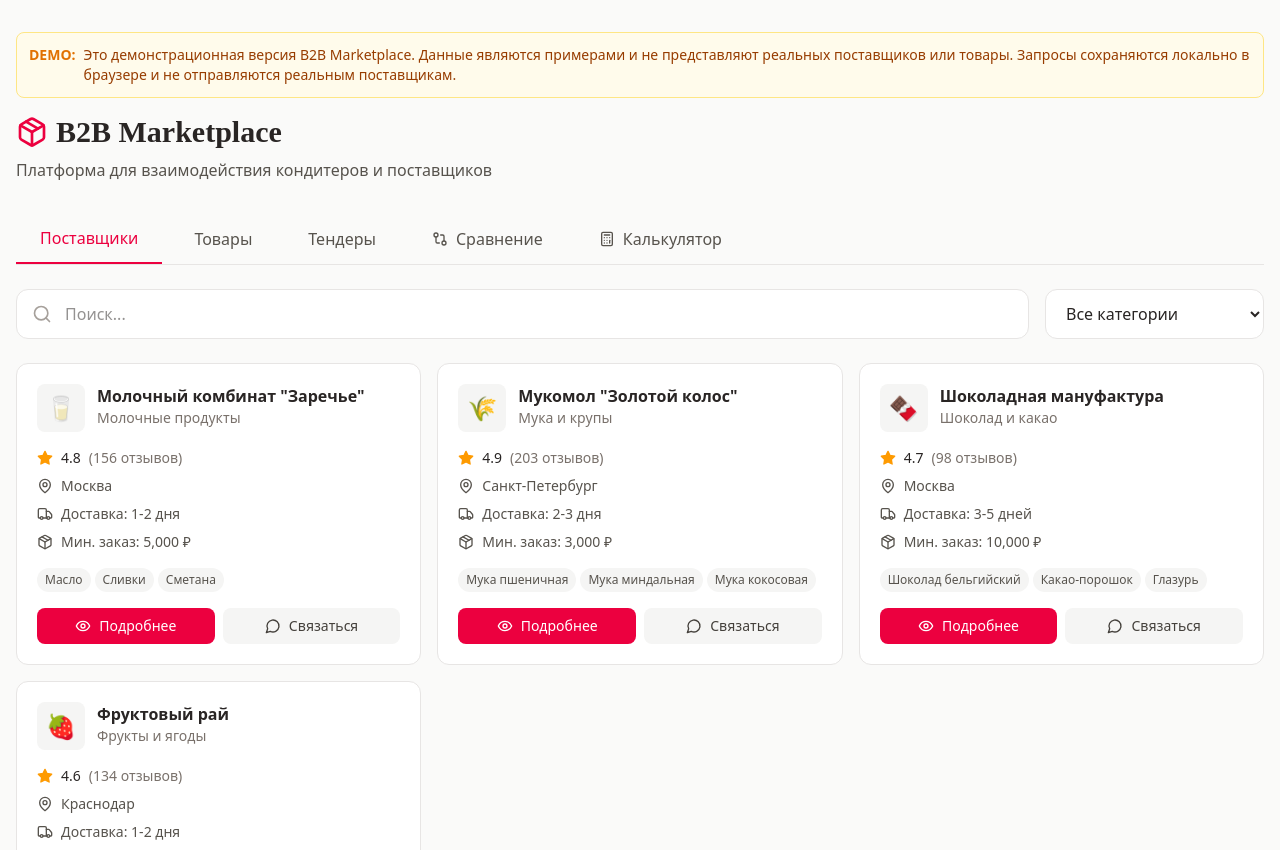
Test case: B2B Marketplace V2 › Закупочный запрос › должен создавать запрос при валидных данных
Click the button "Товары": (223, 239) top-left (170, 214), bottom-right (276, 264)
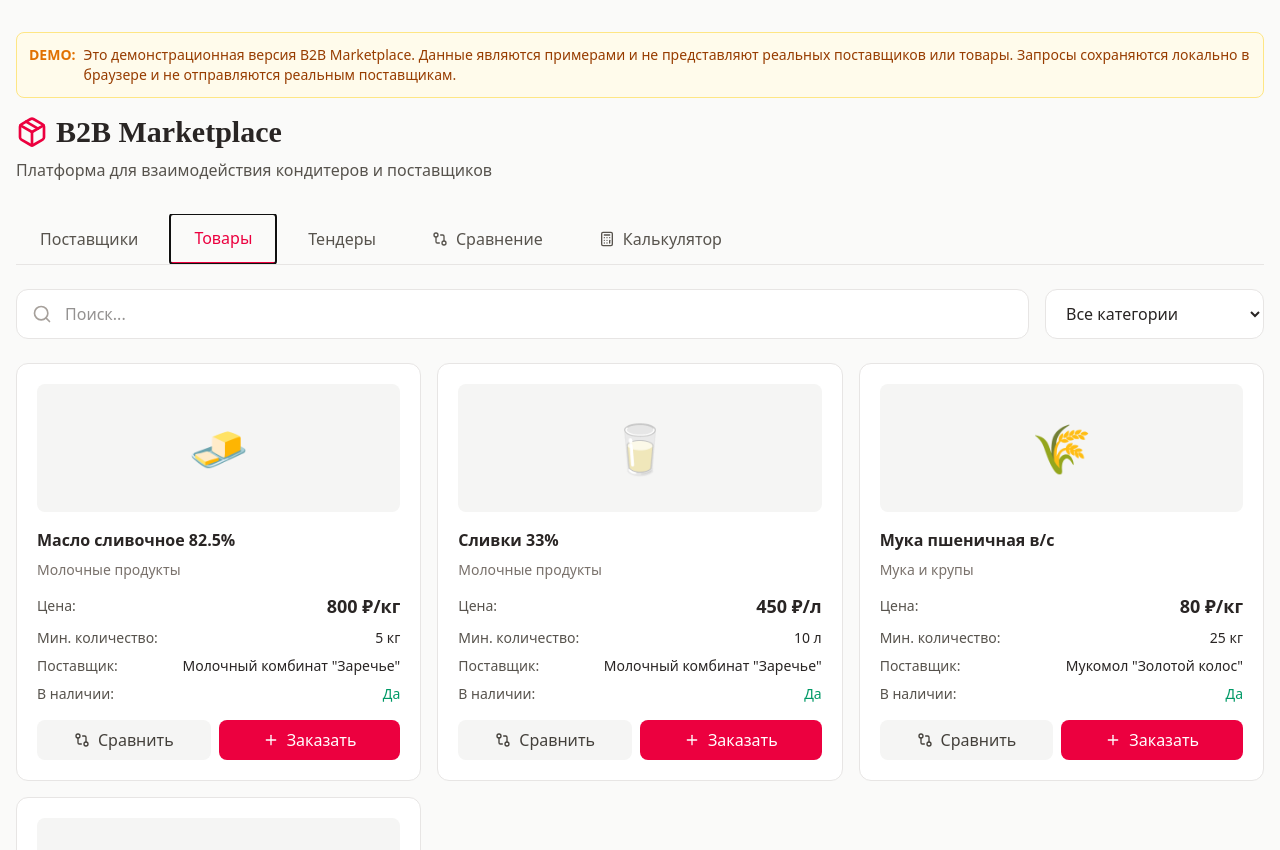
Click the button "Заказать" below "800": (310, 740) top-left (219, 720), bottom-right (400, 760)
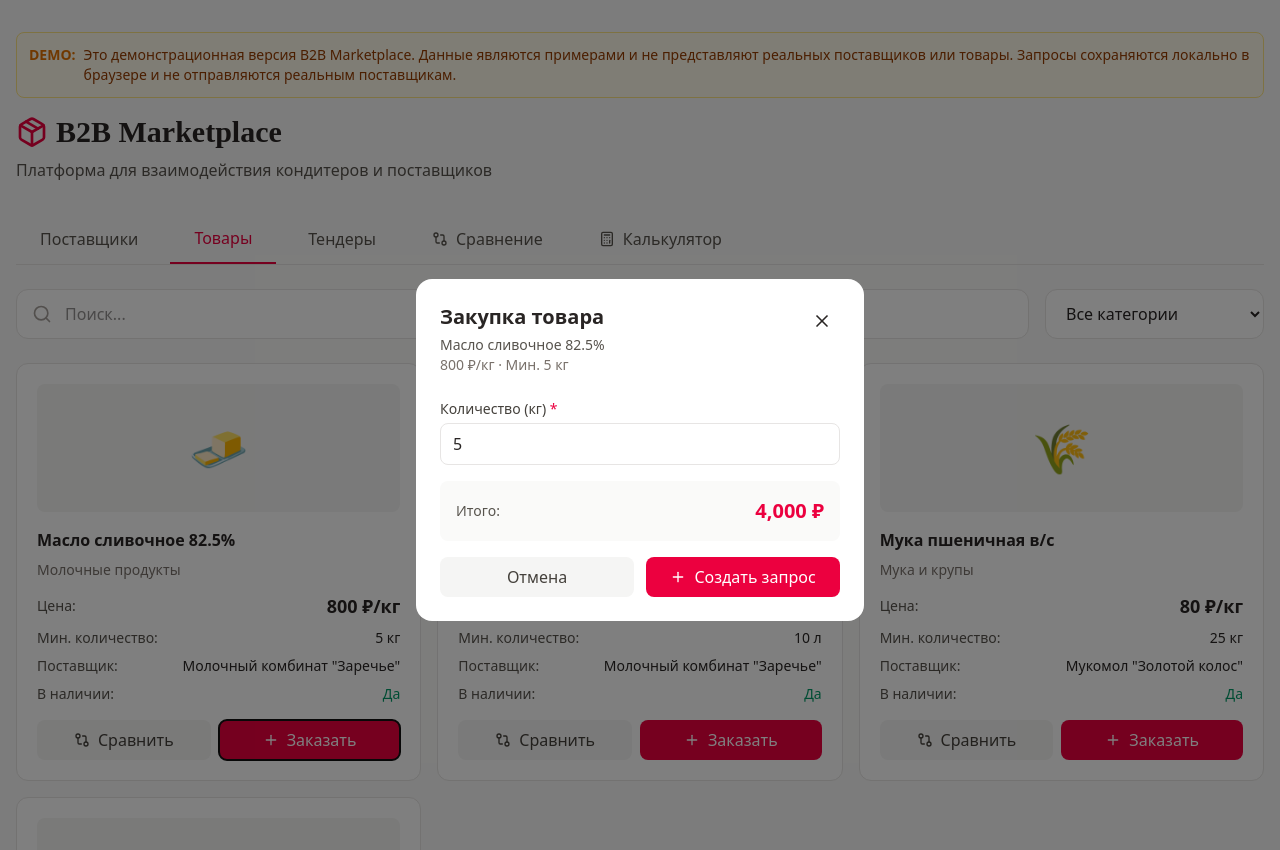
Clear the number field with placeholder "Мин. 5": (640, 444) top-left (440, 423), bottom-right (840, 465)
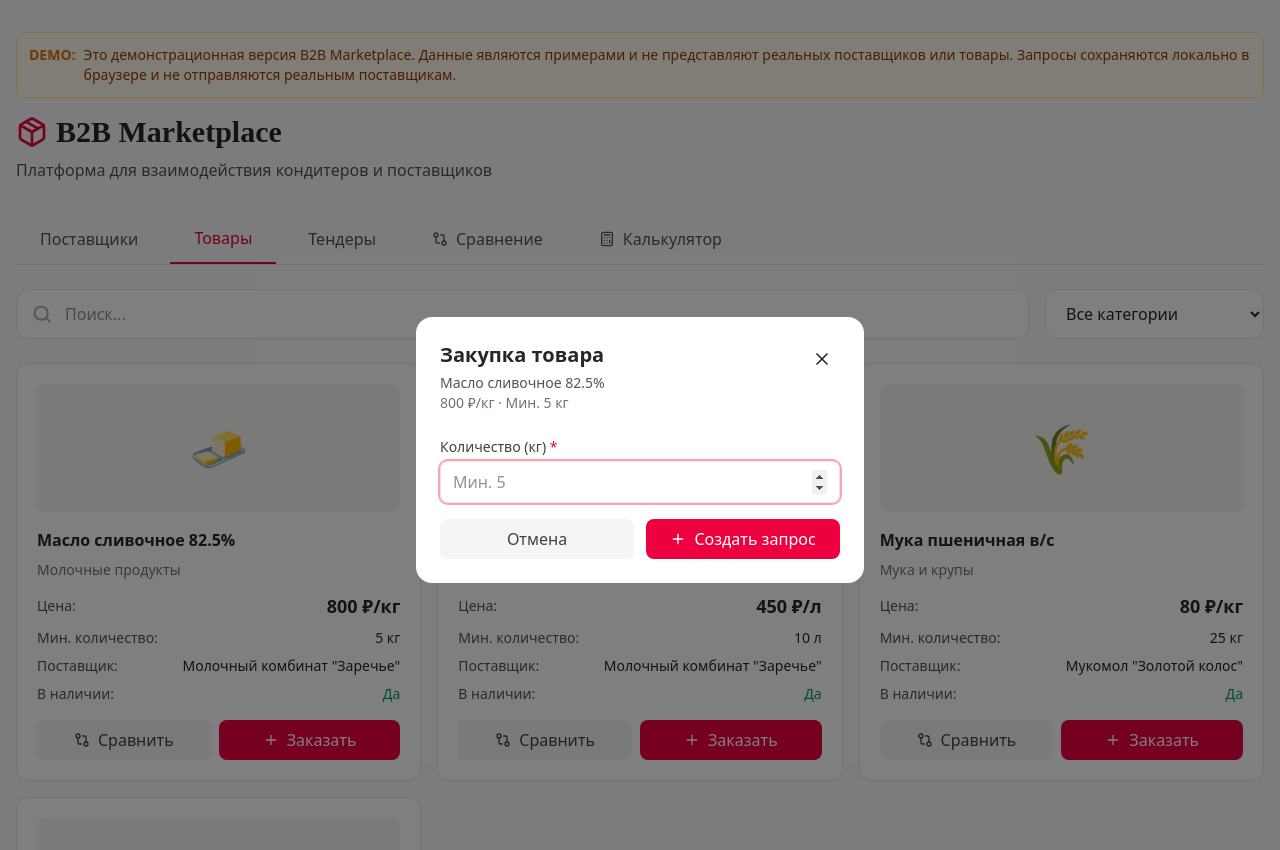
In the number field with placeholder "Мин. 5": (640, 482) top-left (440, 461), bottom-right (840, 503), type "10"
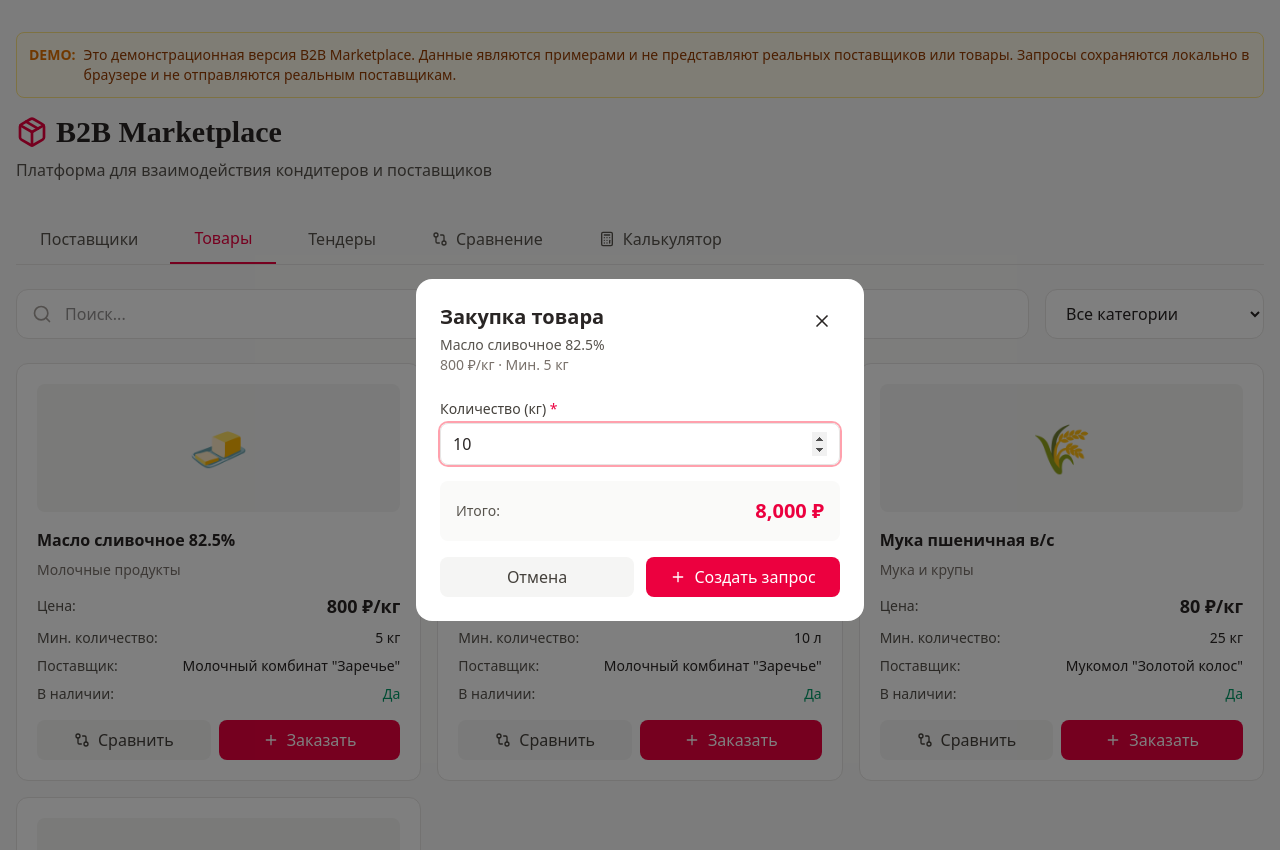
Click the button "Создать запрос": (743, 577) top-left (646, 557), bottom-right (840, 597)
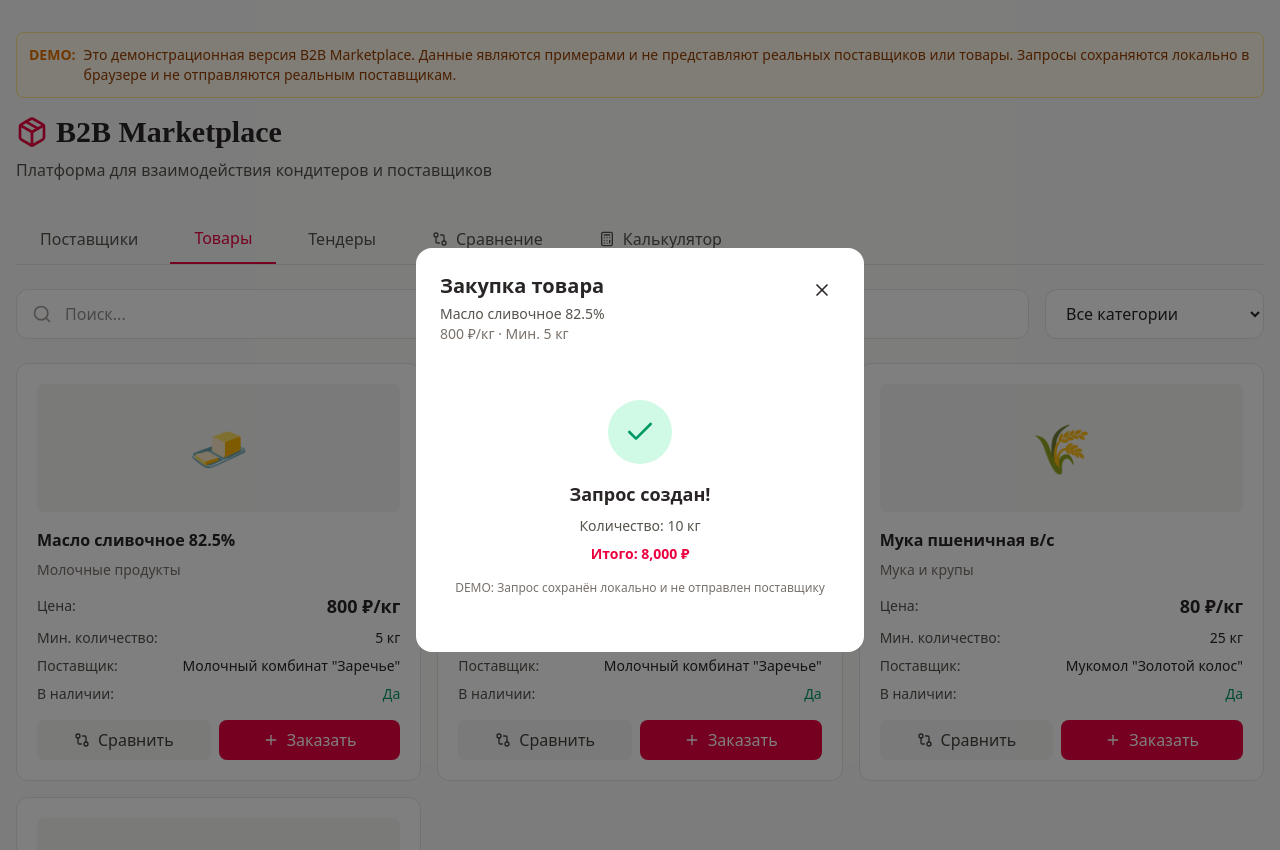
Expected: the heading "Запрос создан!" is shown, top-left (570, 482), bottom-right (710, 506)
